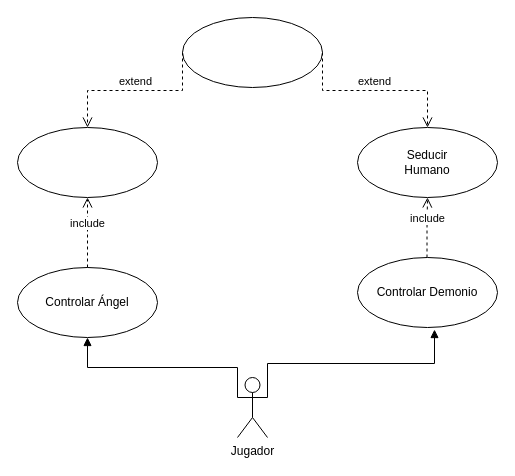
This 515x476 diagram has some shape labels left out. Each missing label, with the centre of its shape:
Probar Fe: (x=87, y=162)
Probar Voluntad: (x=252, y=52)
